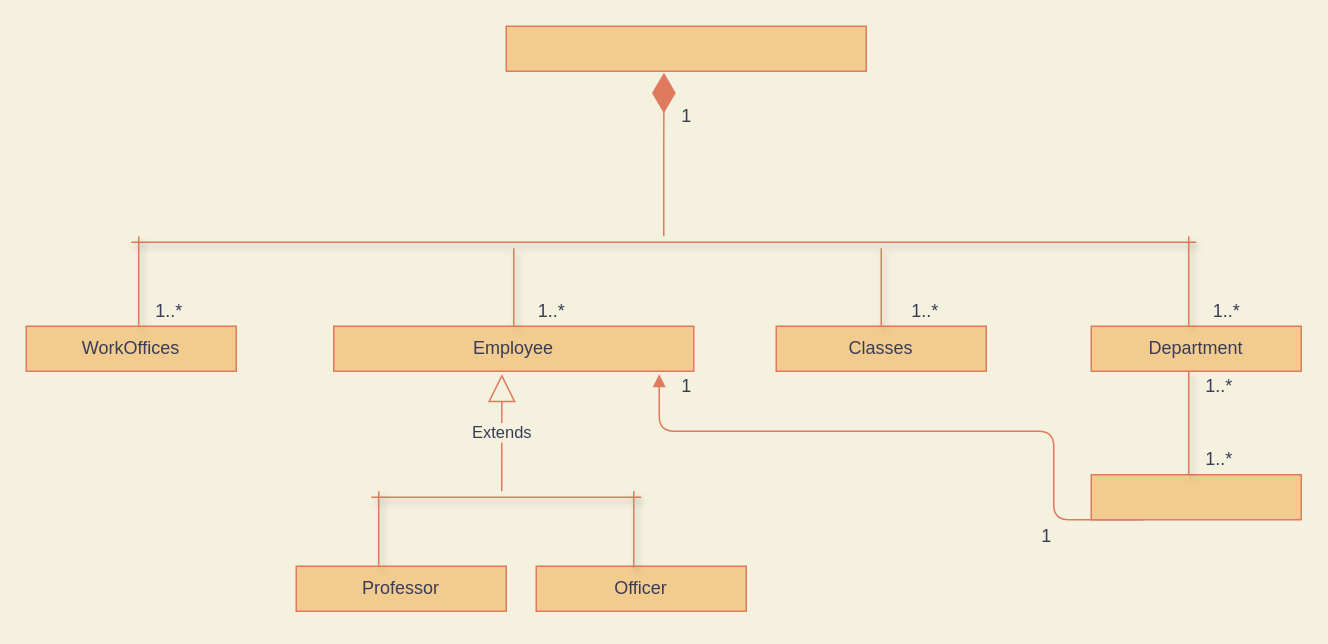
Image size: 1328x644. Some labels were removed from this diagram. Each missing label, with the centre of its shape:
Offices: (x=1195, y=496)
University: (x=685, y=48)
